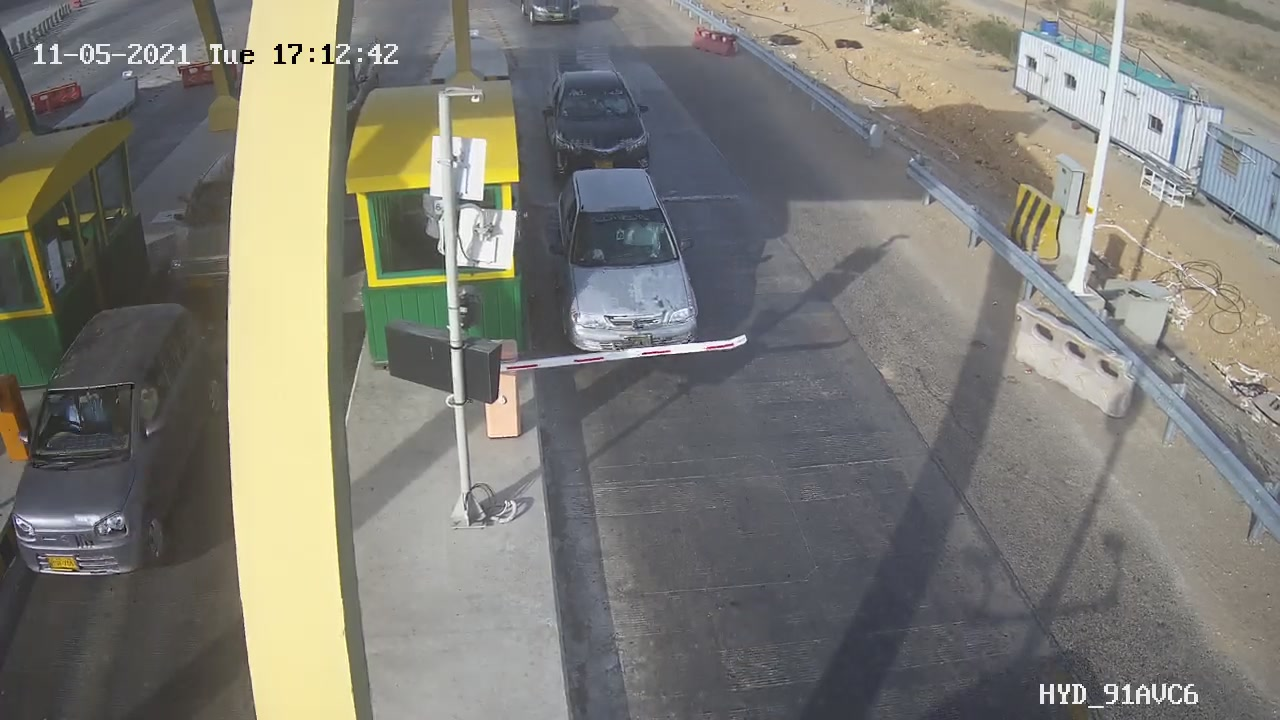F1: (534, 159, 724, 370)
